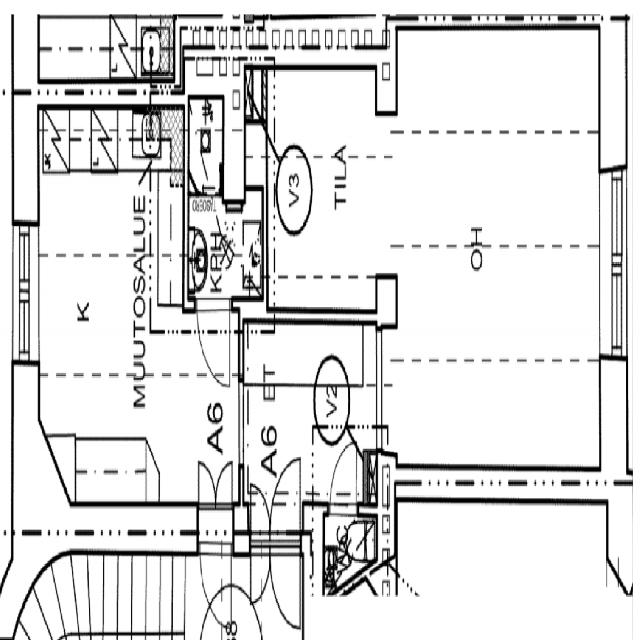door: (197, 297, 229, 390), (270, 458, 300, 555), (270, 533, 300, 629), (329, 436, 356, 514), (264, 115, 286, 160)
